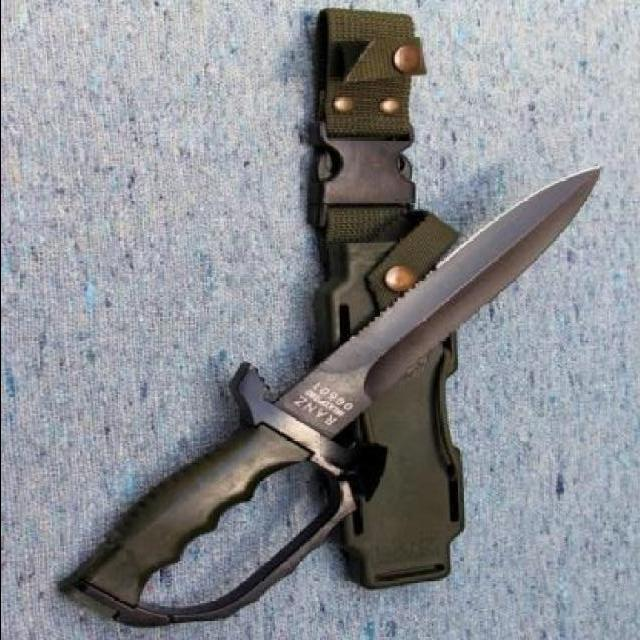Knife: (62, 168, 598, 626)
